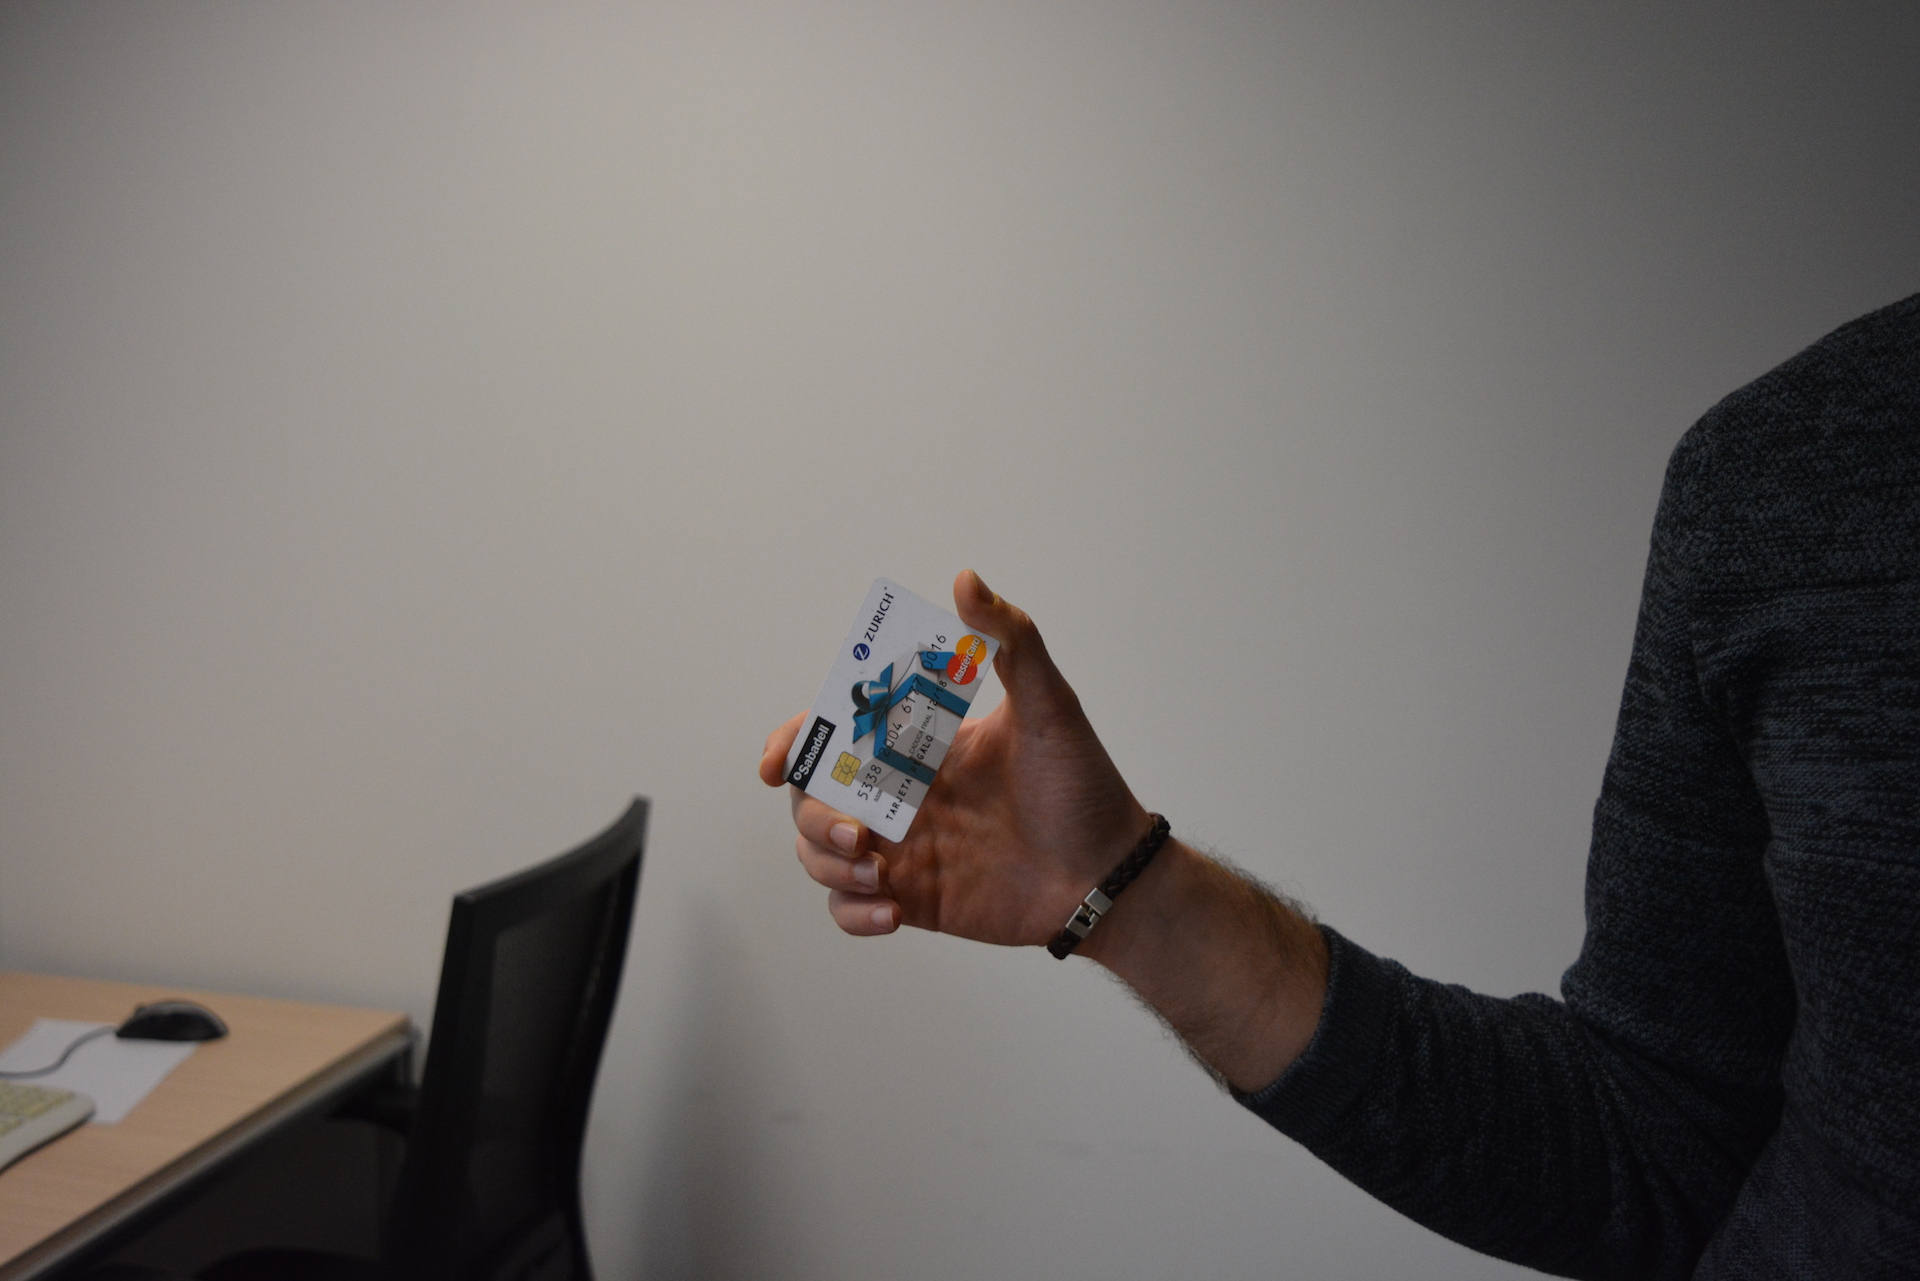tarjeta: (779, 575, 1004, 845)
